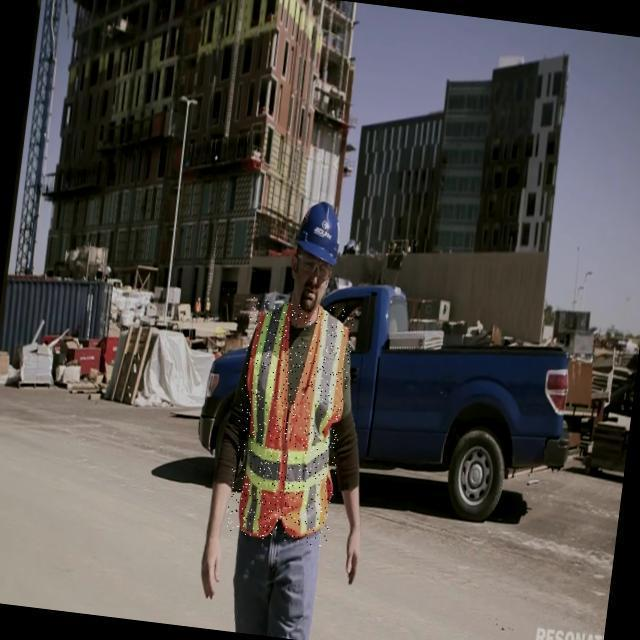helmet: (293, 193, 346, 271)
vest: (223, 297, 356, 547)
